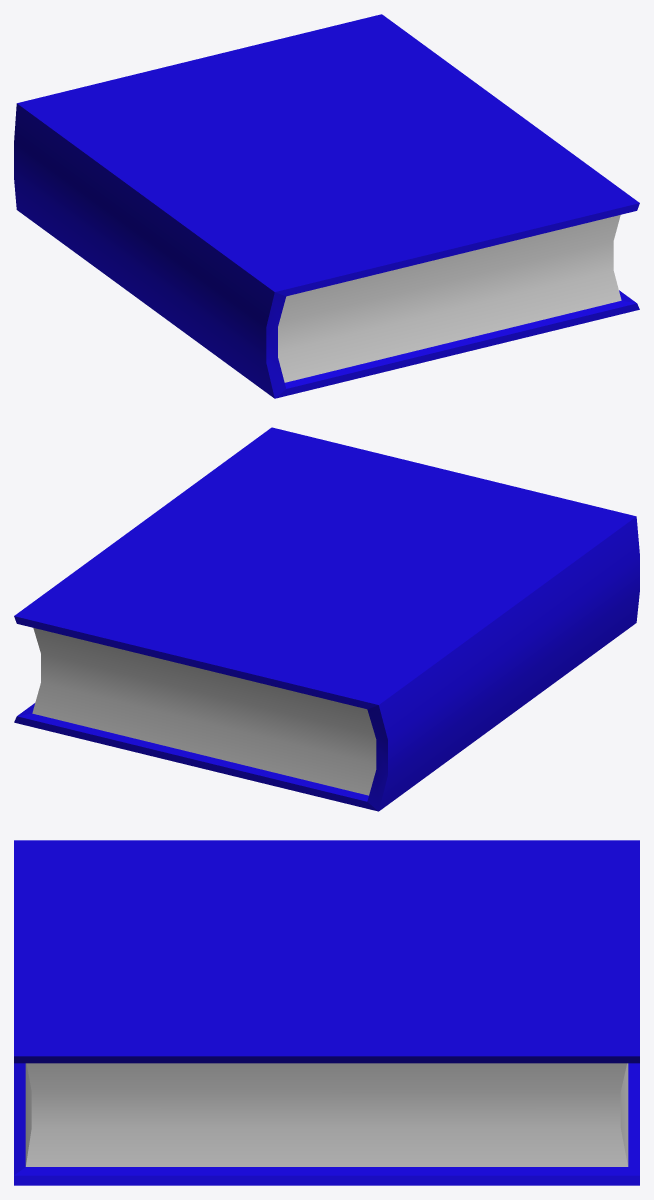
File: Book.fbx
3 views of the same model, one above another, from view 1: azimuth 30°, elevation 25°; view 2: azimuth 150°, elevation 25°; view 3: azimuth 270°, elevation 25° (orthographic). The views are drawn at different scales.
Parts seen in each view (by area): view 1: BigBook; view 2: BigBook; view 3: BigBook.
Boxes of the visible parts, <box> form: BigBook: <box>14,14,639,398</box>; BigBook: <box>14,427,639,811</box>; BigBook: <box>14,840,639,1185</box>.
Bounding box in the file's own units: 24.2 × 6.64 × 29.15.
